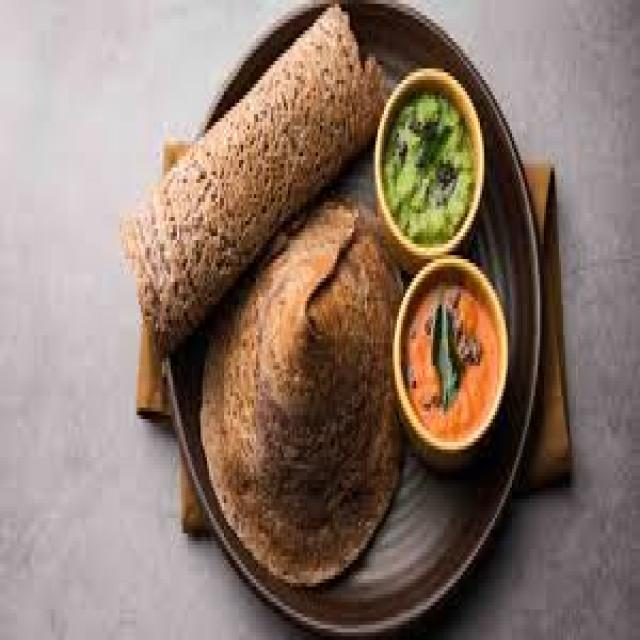DOSA: (124, 8, 382, 350), (201, 198, 401, 575)
